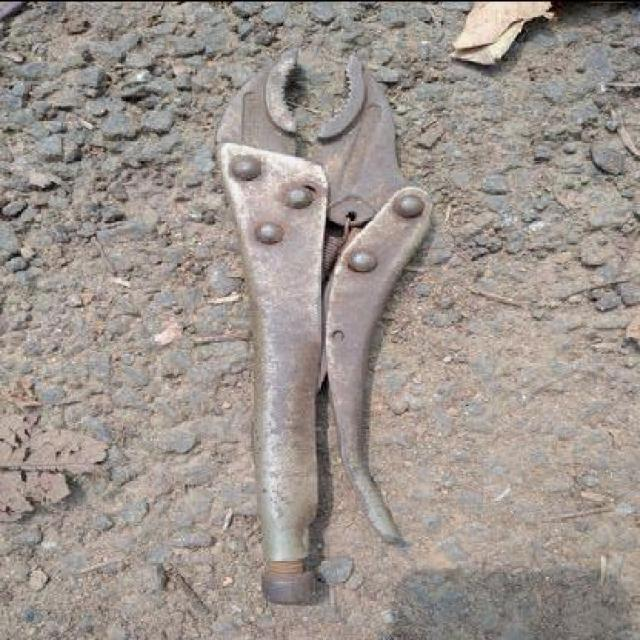pliers: (210, 59, 435, 604)
